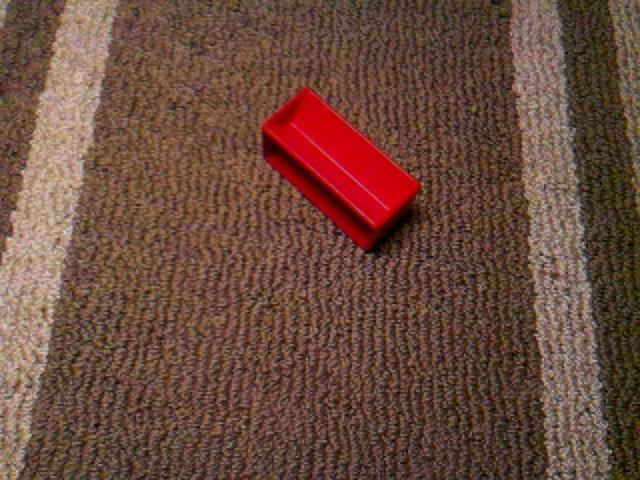red: (261, 85, 423, 253)
